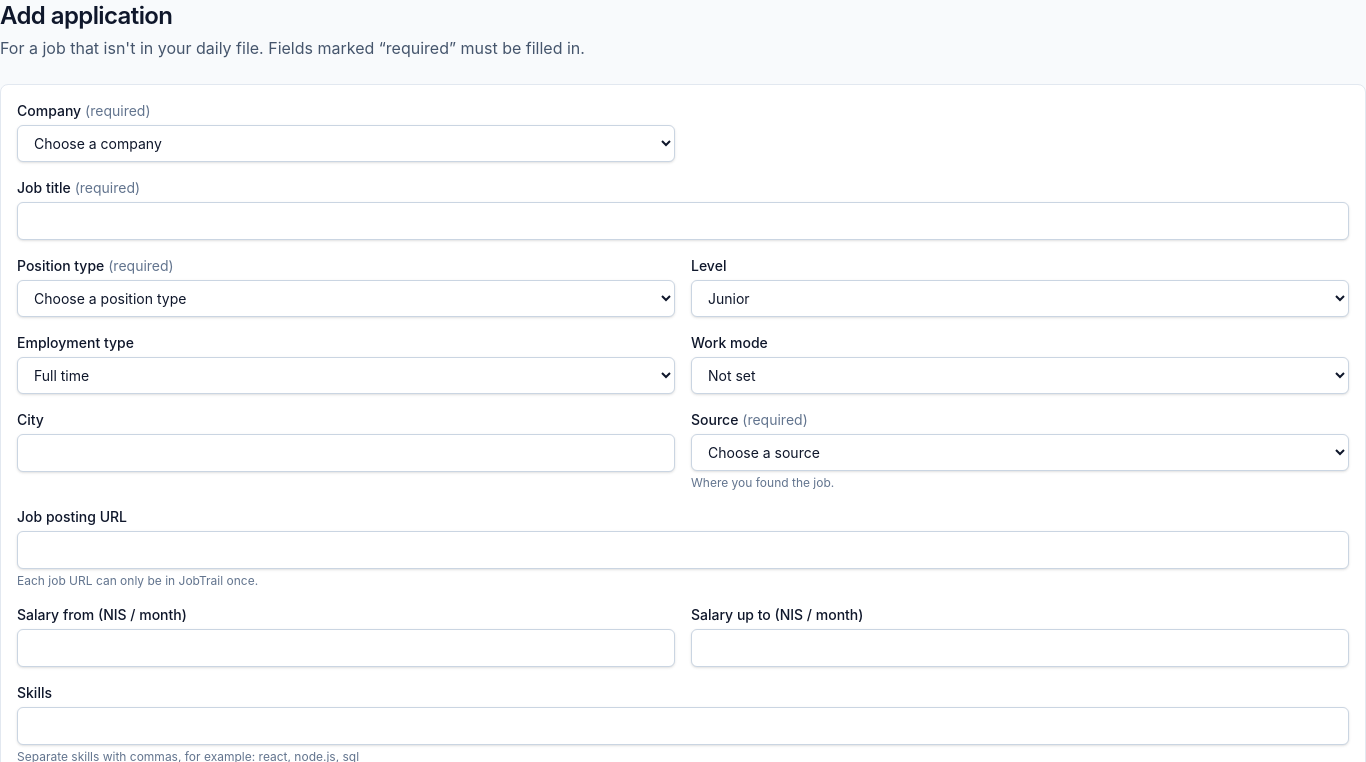
Scenario: NewApplicationPage › links to the application that already has the job URL
Select "Acme Robotics" in the dropdown labelled "Company (required)" at (346, 144), box [17,125,675,162]
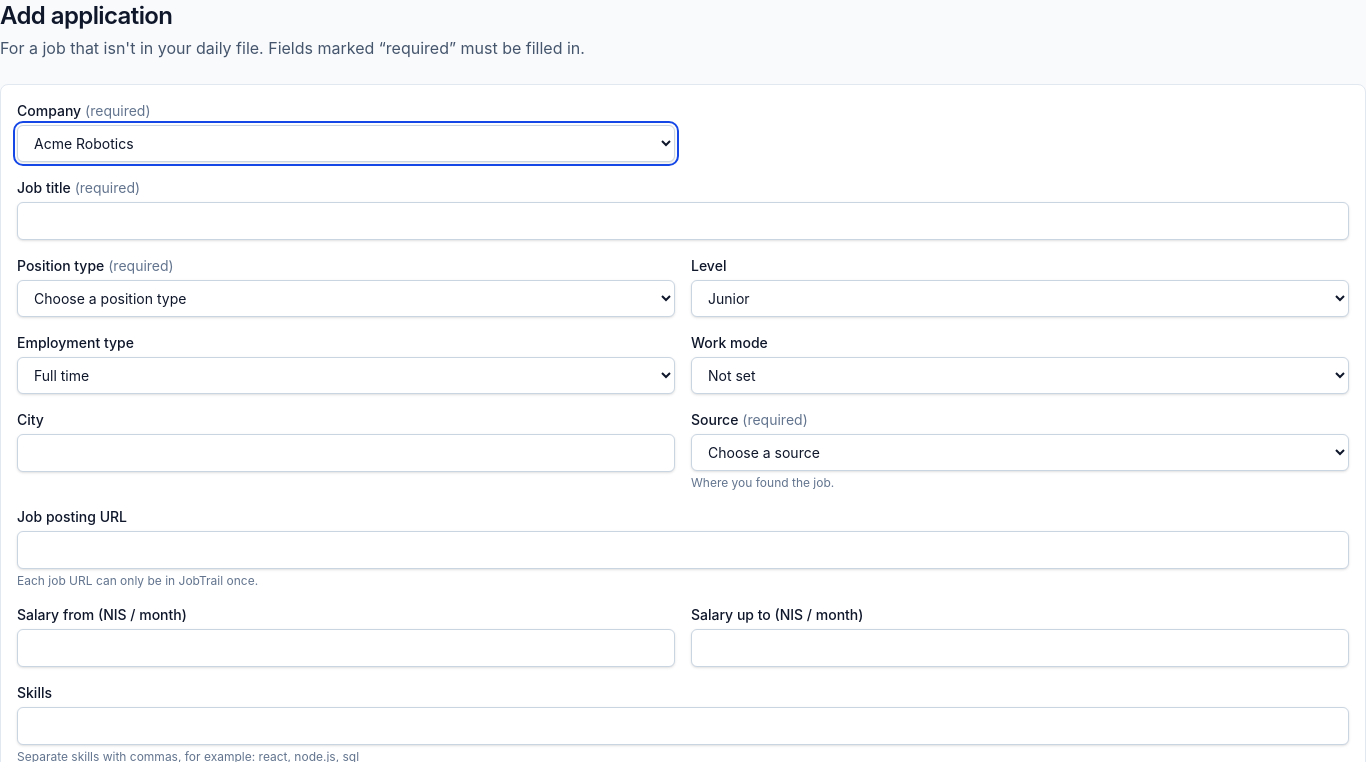
Type "Junior Backend Developer" into the field labelled "Job title (required)" at (683, 221), box [17,202,1349,240]
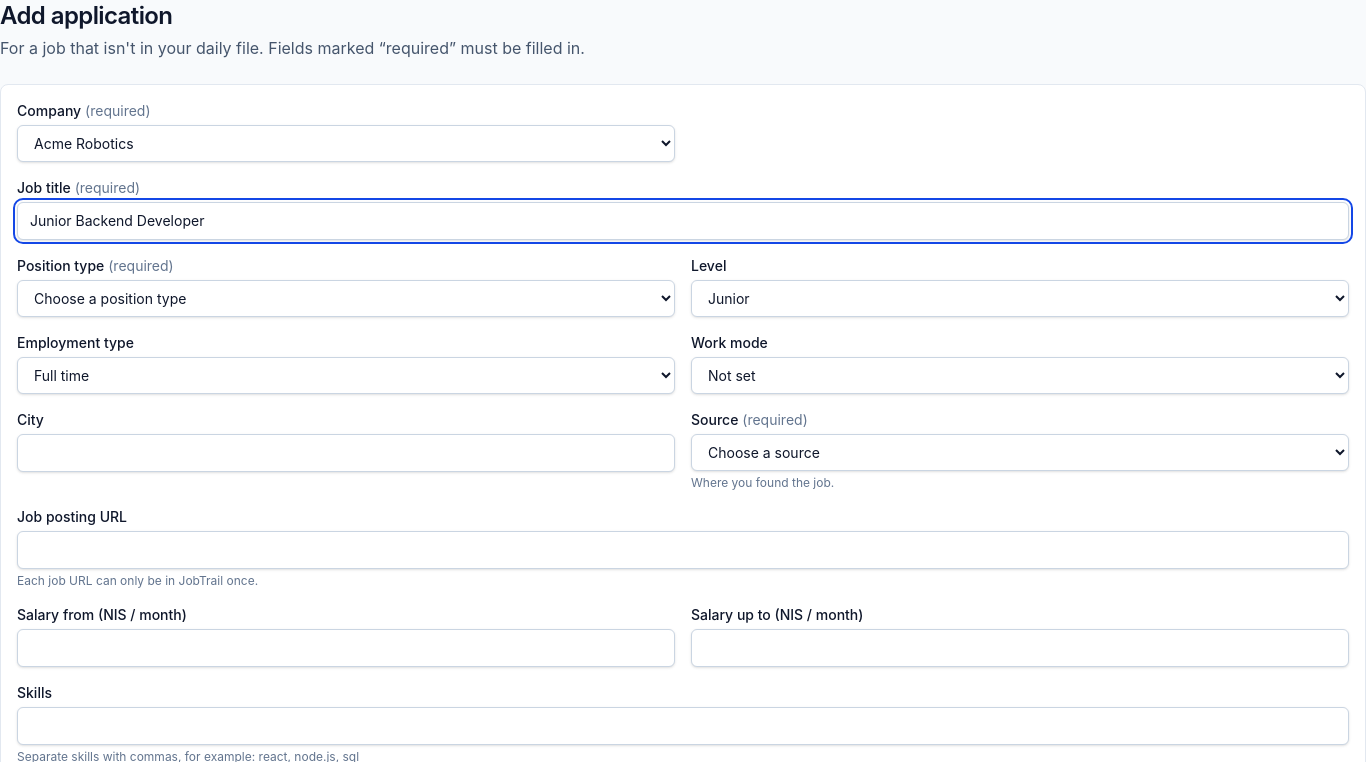
Select "Backend" in the dropdown labelled "Position type (required)" at (346, 298), box [17,280,675,317]
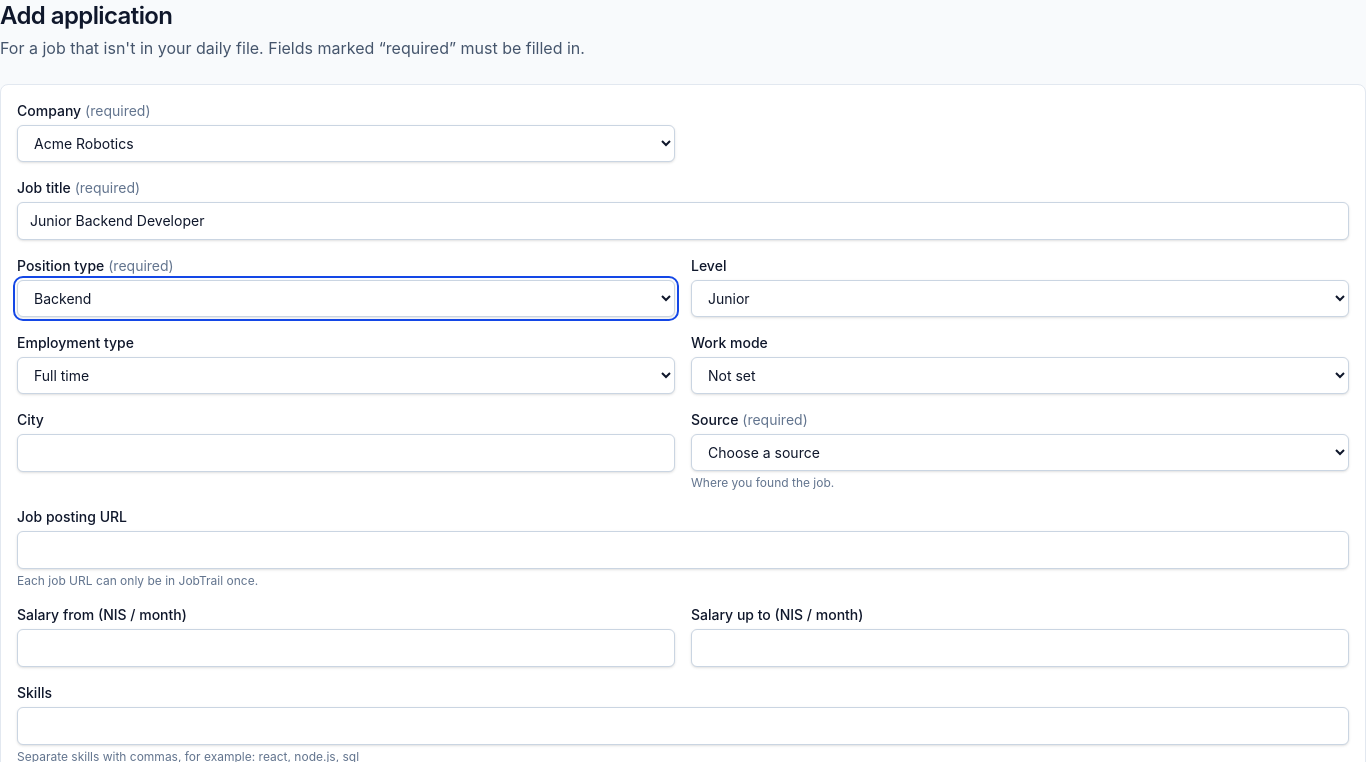
Select "LinkedIn" in the dropdown labelled "Source (required)" at (1020, 452), box [691,434,1349,471]
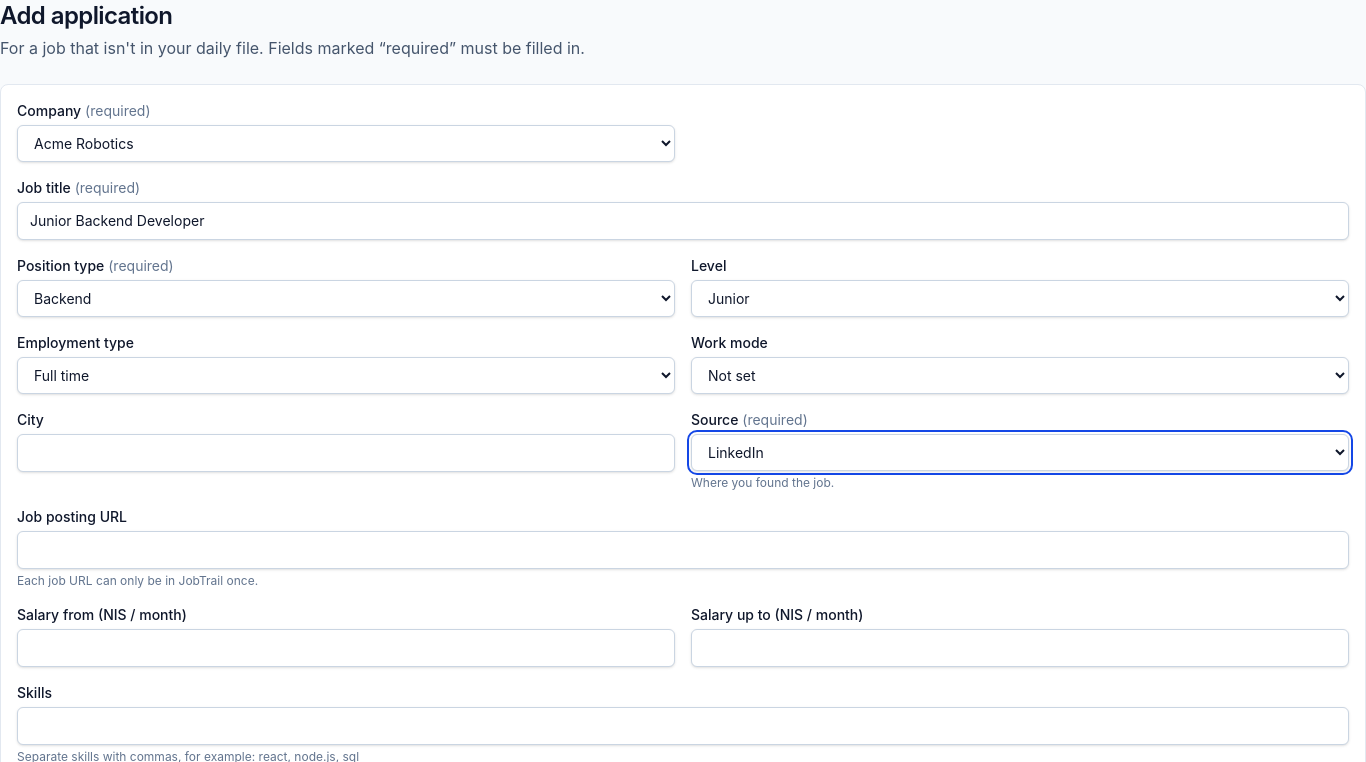
Type "https://jobs.example.com/new" into the field labelled "Job posting URL" at (683, 550), box [17,531,1349,569]
(page scrolled)
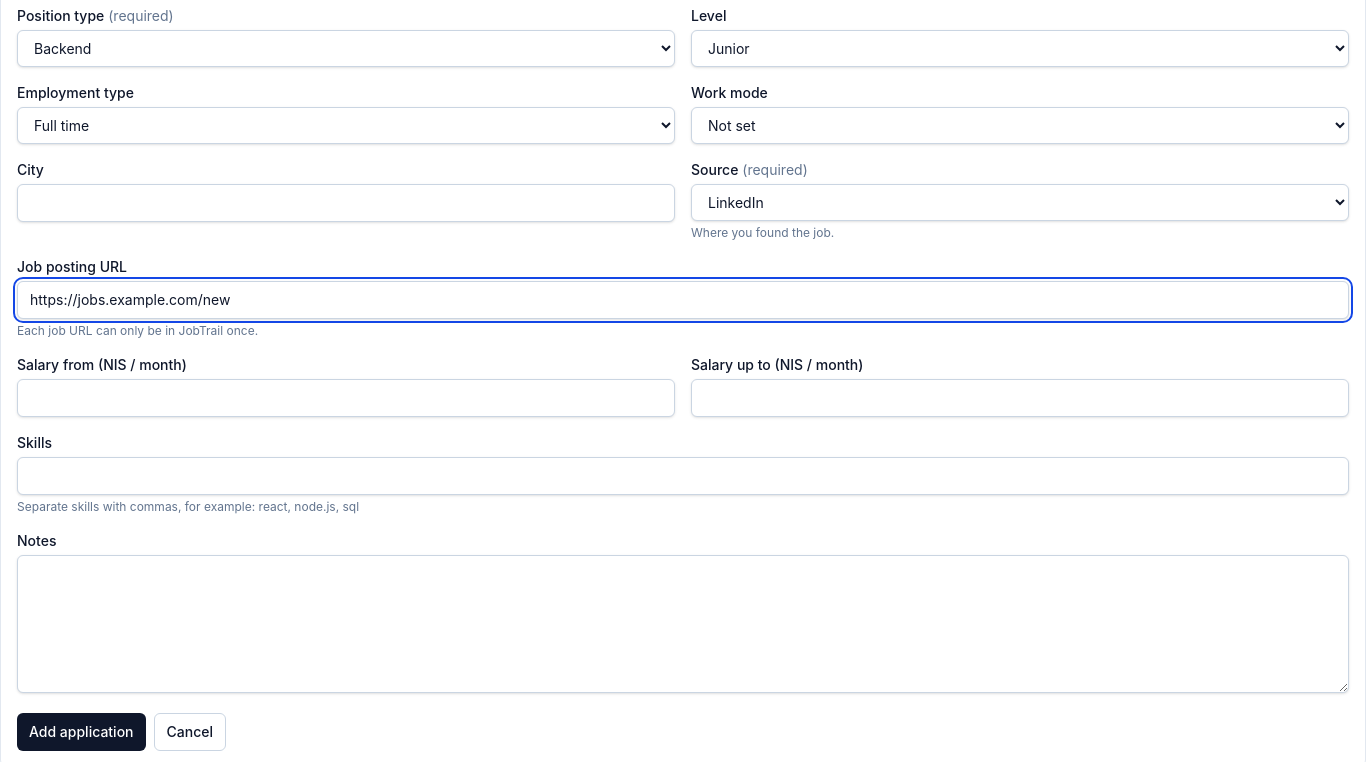
Click the button "Add application" at (81, 732), box [17,713,146,751]
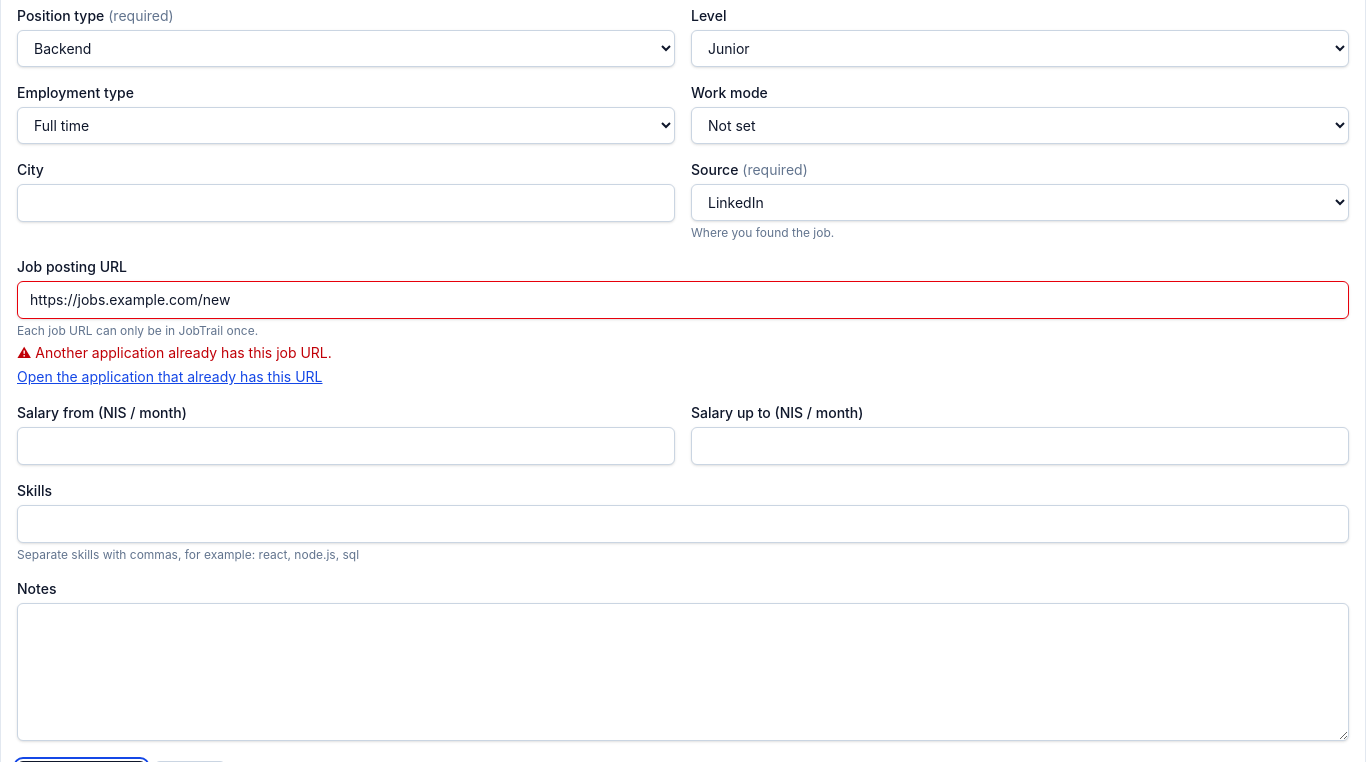
Expected: the text "Another application already has this job URL." is shown, [35,344,332,361]
